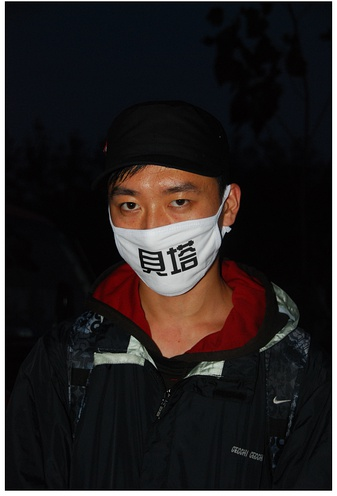face_mask: (111, 147, 219, 293)
